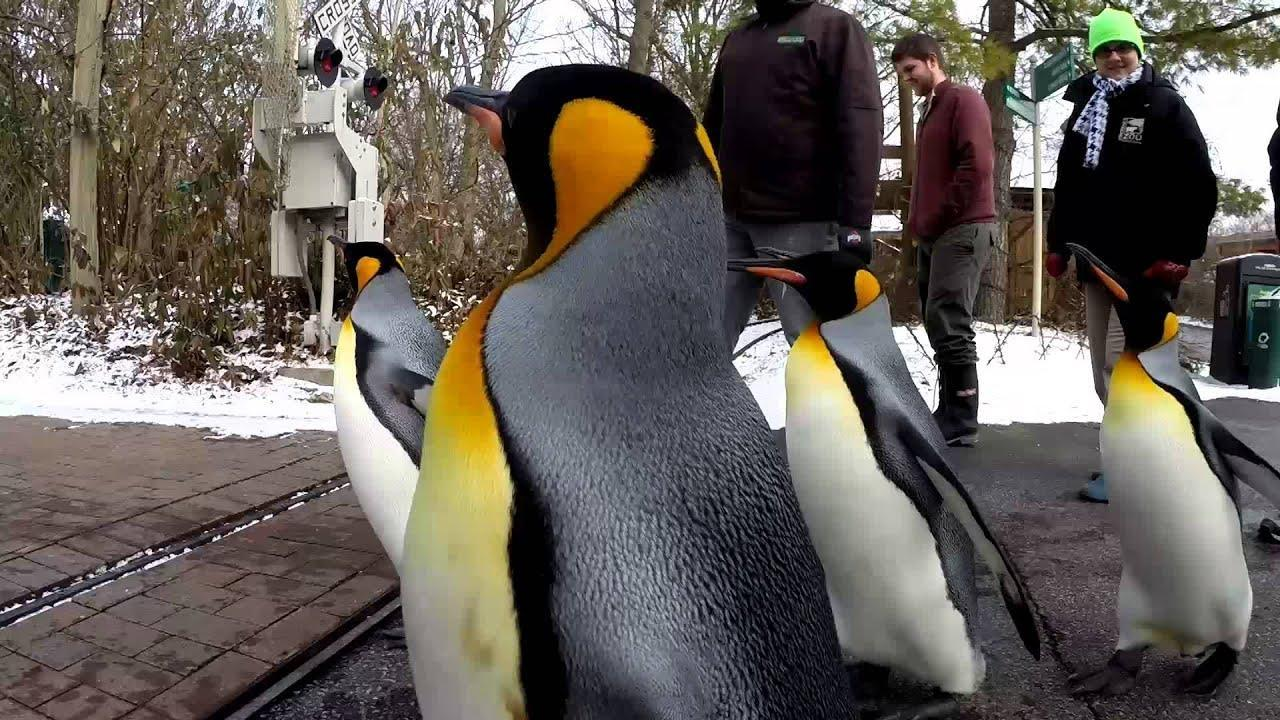Penguin: (403, 65, 853, 717), (731, 253, 1039, 693), (1071, 245, 1278, 696), (325, 234, 444, 571)
